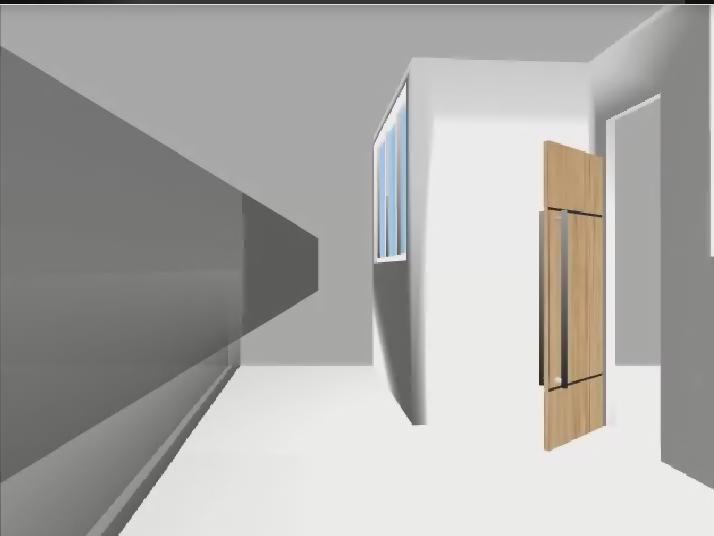door: (539, 140, 606, 451)
